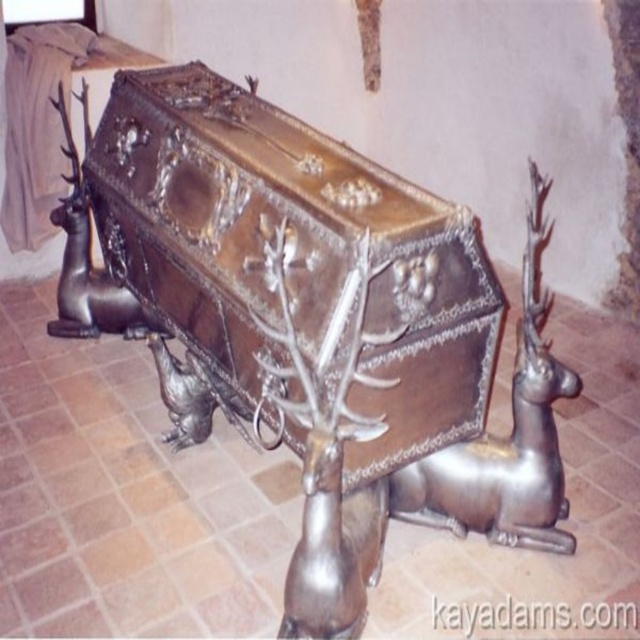Deer: (389, 157, 582, 549), (263, 213, 390, 638), (49, 86, 169, 339)
